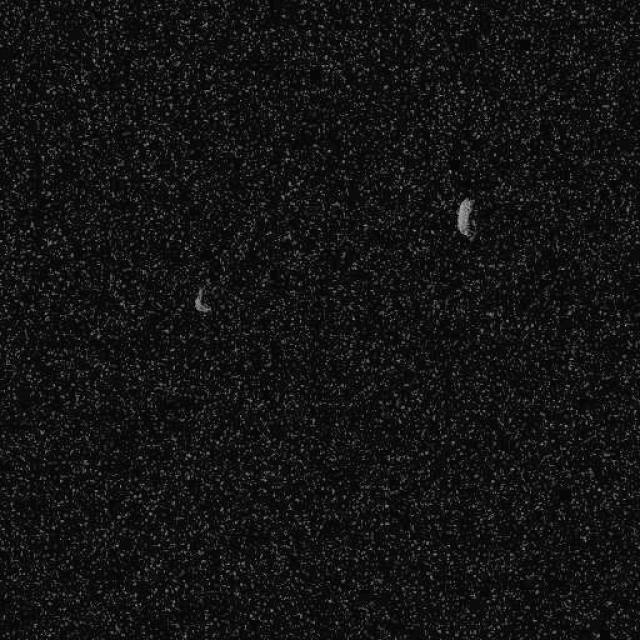D2: (455, 195, 477, 239), (192, 285, 212, 314)
